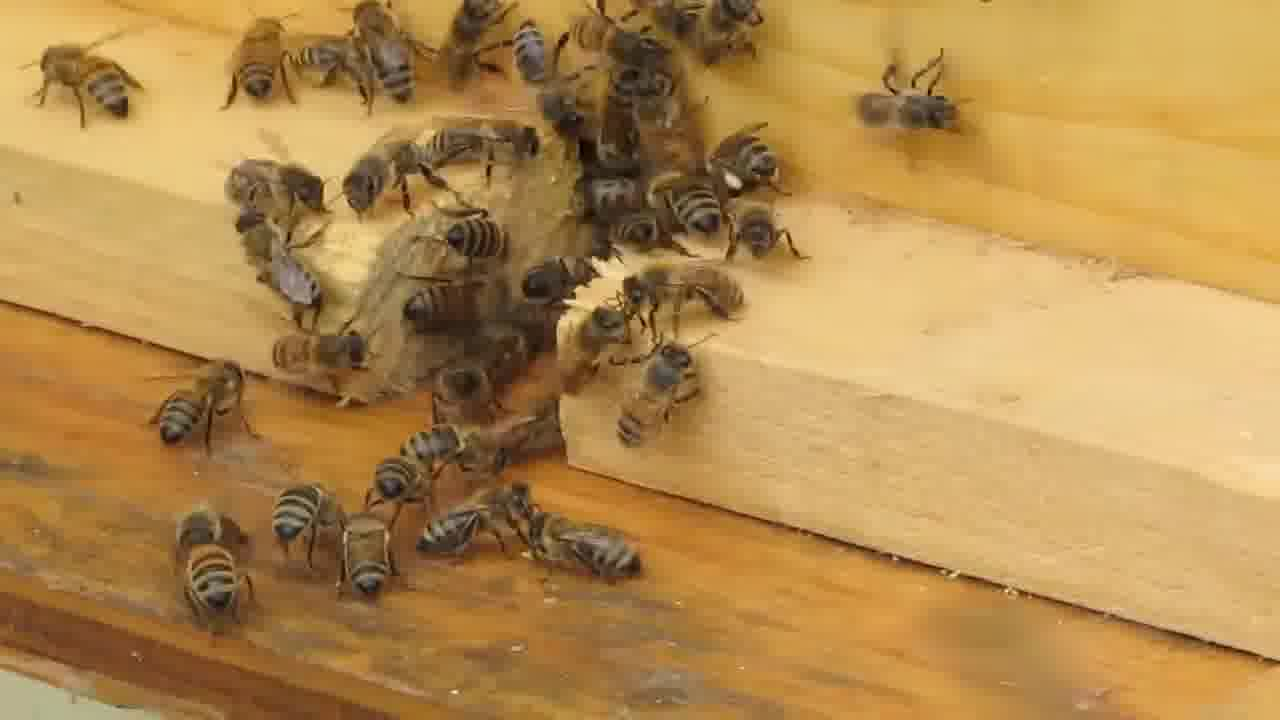pollen: (703, 129, 794, 202)
